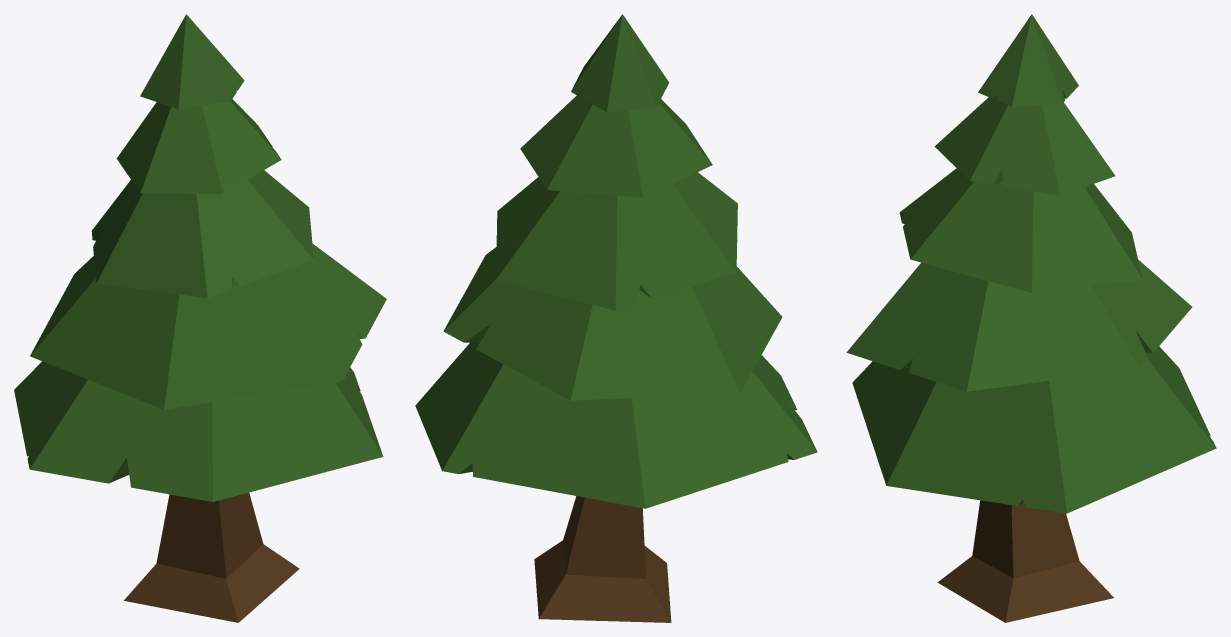
Rendered from spruce2.fbx.
3 views of the same model, side by side, from view 1: azimuth 30°, elevation 25°; view 2: azimuth 150°, elevation 25°; view 3: azimuth 270°, elevation 25° (orthographic). The views are drawn at different scales.
Visible parts, largest first — view 1: Cone.006, Cone.007, Cone.005, Cube.003, Cone.004, Cone.008; view 2: Cone.007, Cone.006, Cone.005, Cone.004, Cube.003, Cone.008; view 3: Cone.007, Cone.006, Cone.005, Cube.003, Cone.004, Cone.008.
Part boxes in pixels (box(x1,y1,x2,y2)): Cone.006: box(30, 243, 386, 409); Cone.007: box(14, 361, 383, 501); Cone.005: box(91, 170, 313, 298); Cube.003: box(124, 492, 299, 622); Cone.004: box(116, 99, 281, 193); Cone.008: box(140, 14, 244, 109); Cone.007: box(415, 342, 817, 508); Cone.006: box(443, 247, 782, 400); Cone.005: box(496, 172, 737, 310); Cone.004: box(520, 95, 712, 197); Cube.003: box(534, 496, 671, 622); Cone.008: box(571, 14, 669, 112); Cone.007: box(852, 346, 1216, 513); Cone.006: box(846, 259, 1192, 391); Cone.005: box(899, 168, 1142, 292); Cube.003: box(937, 500, 1113, 622); Cone.004: box(934, 97, 1115, 195); Cone.008: box(978, 14, 1078, 106).
Size of the model in its own units: 5.58 by 8.58 by 5.05.
